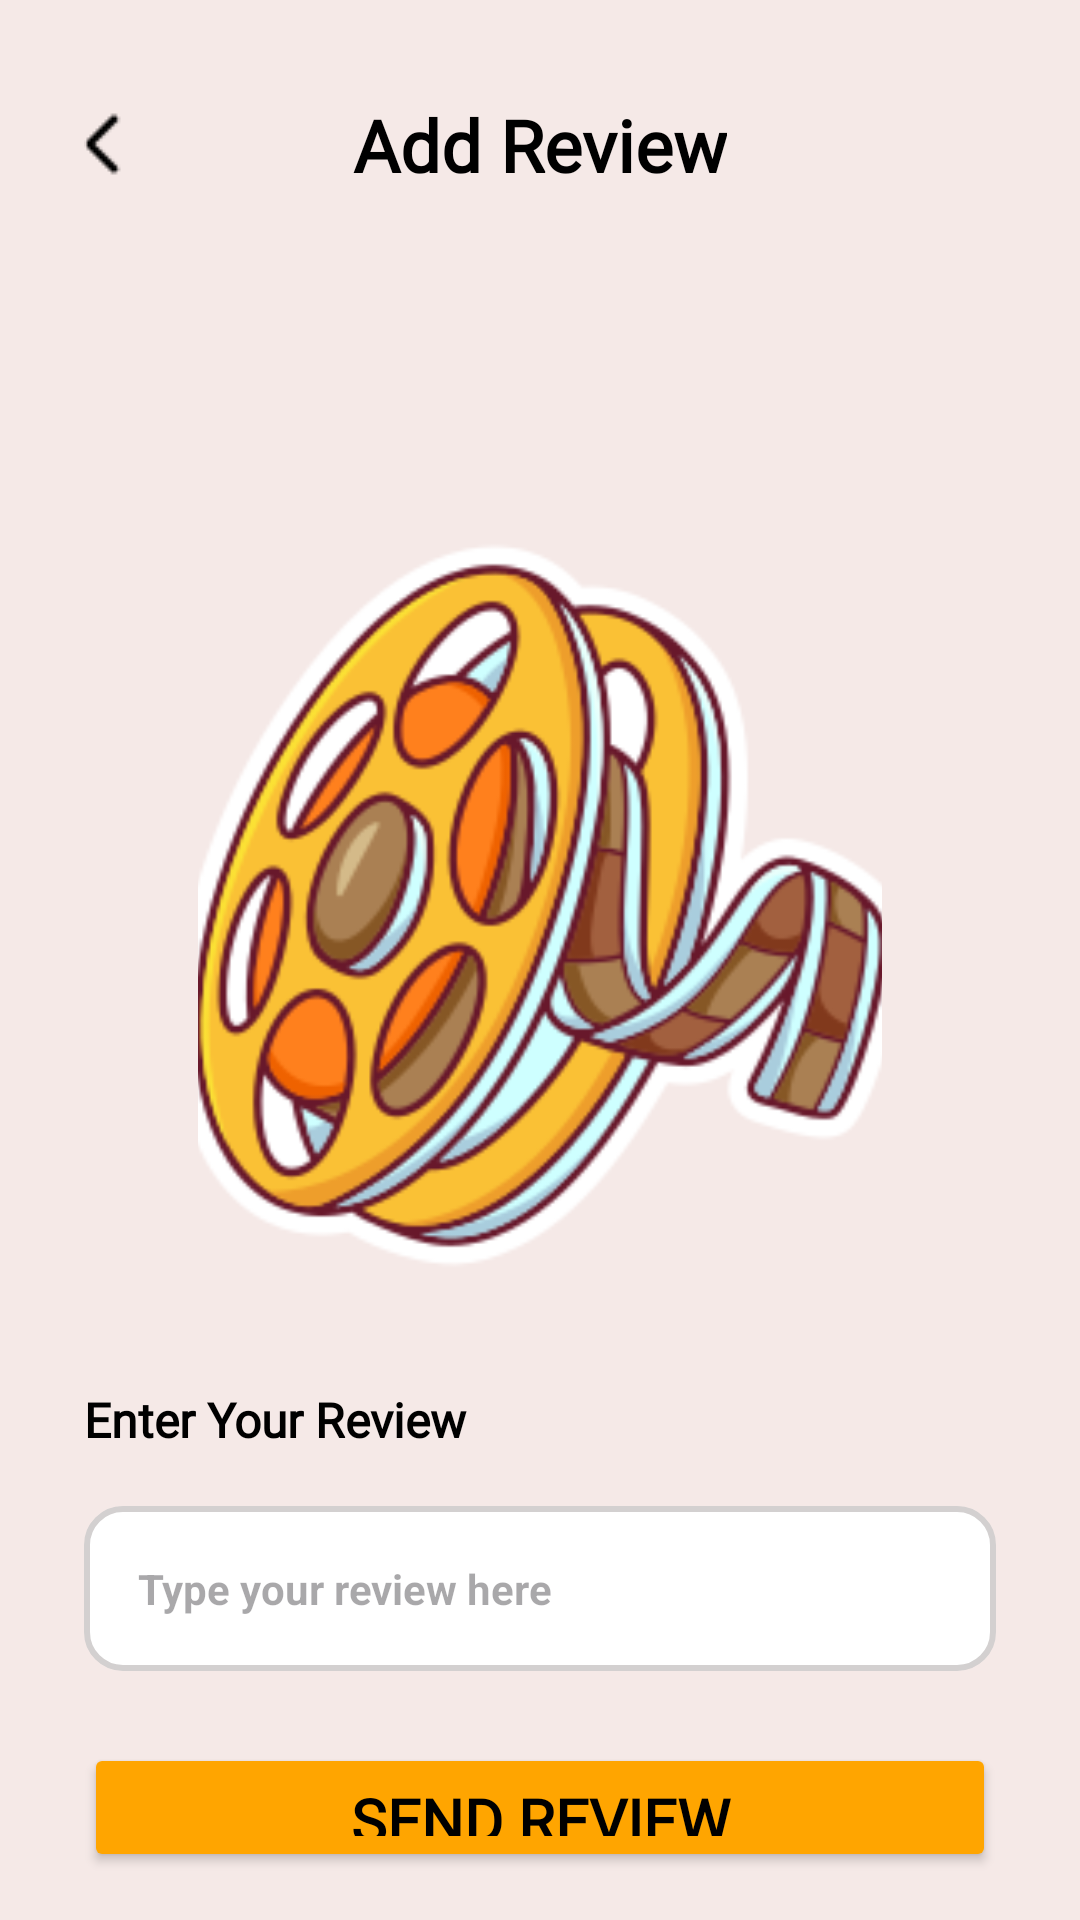

Icon bounding boxes for this 1080x1920 phone screenshot, format bbox=[x1, y1, x2, y2]:
Back: bbox=[86, 113, 120, 175]
